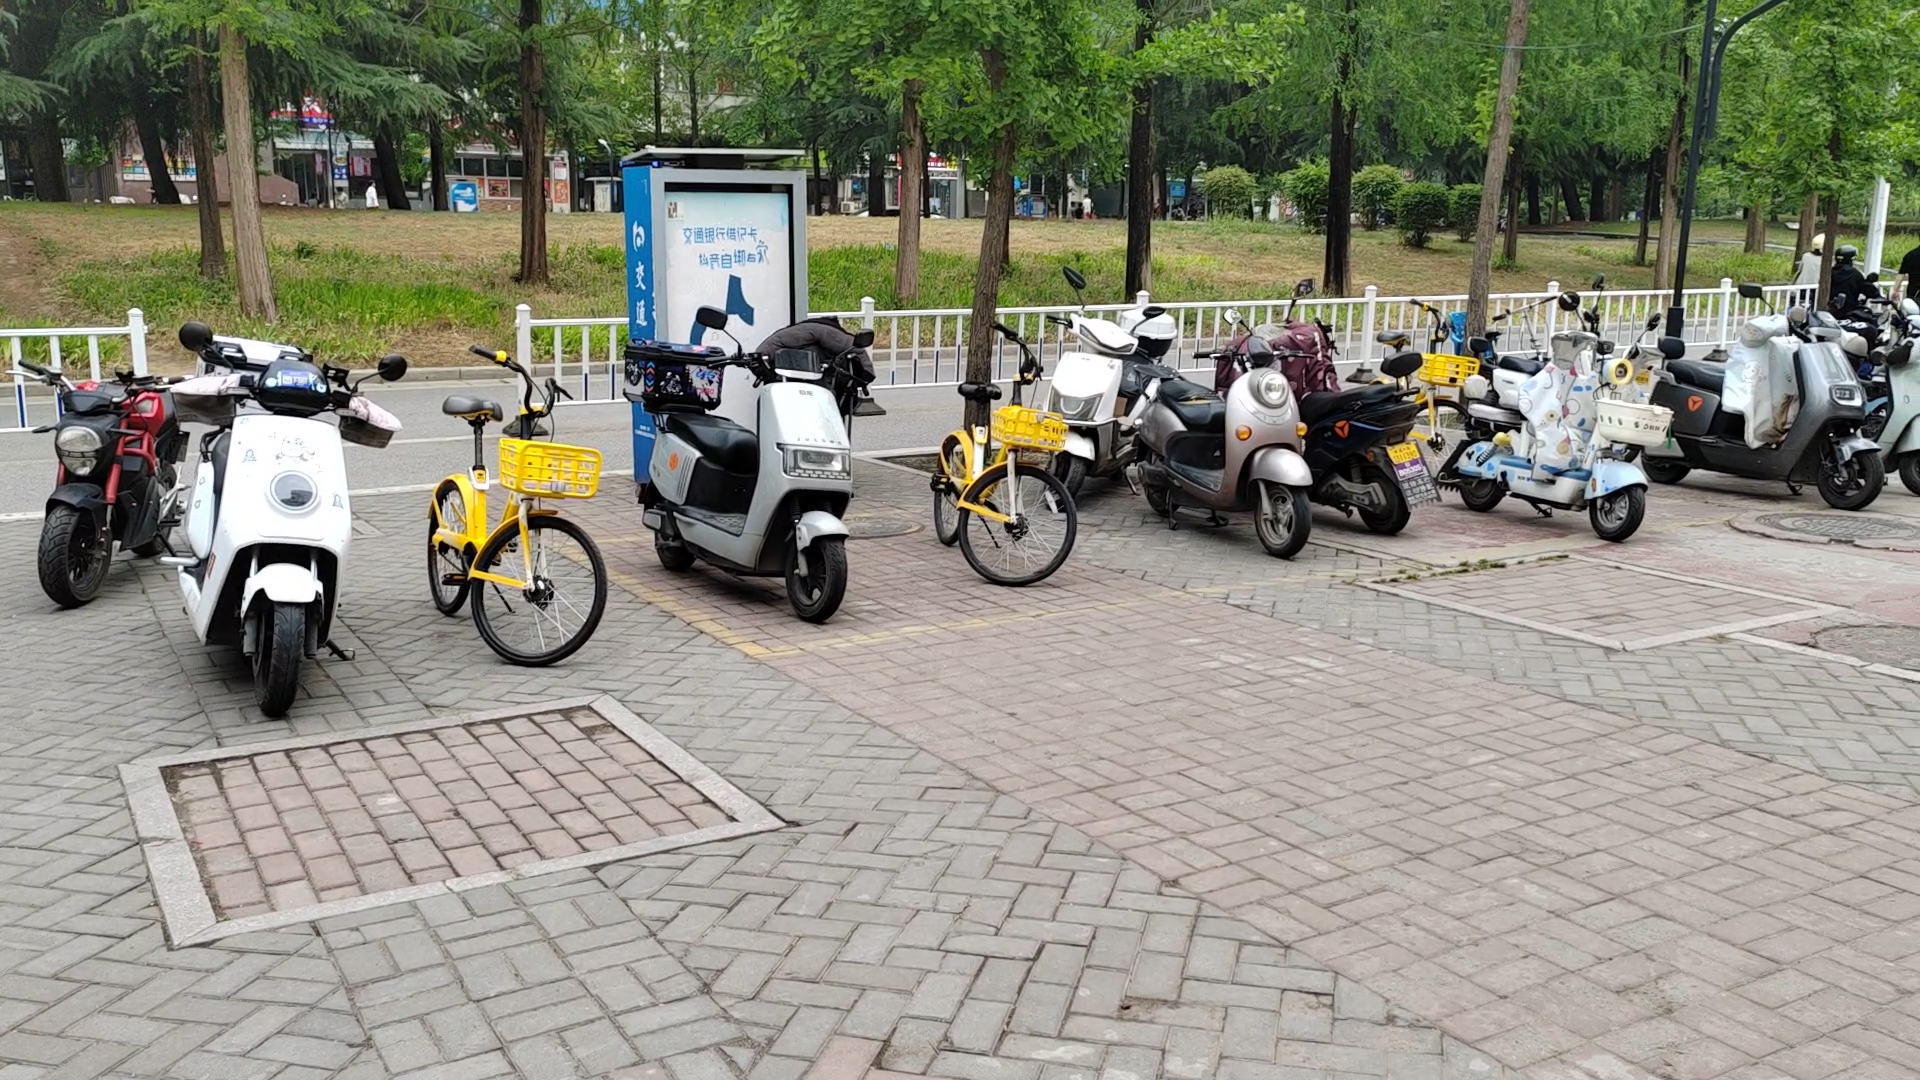others: (657, 322, 870, 649), (175, 327, 352, 712), (1677, 303, 1876, 534), (17, 342, 179, 587), (1480, 345, 1671, 524), (1158, 344, 1317, 553), (1033, 258, 1158, 491)
shared_bike_meituan: (414, 328, 607, 686), (916, 297, 1063, 612), (1367, 284, 1480, 477)
